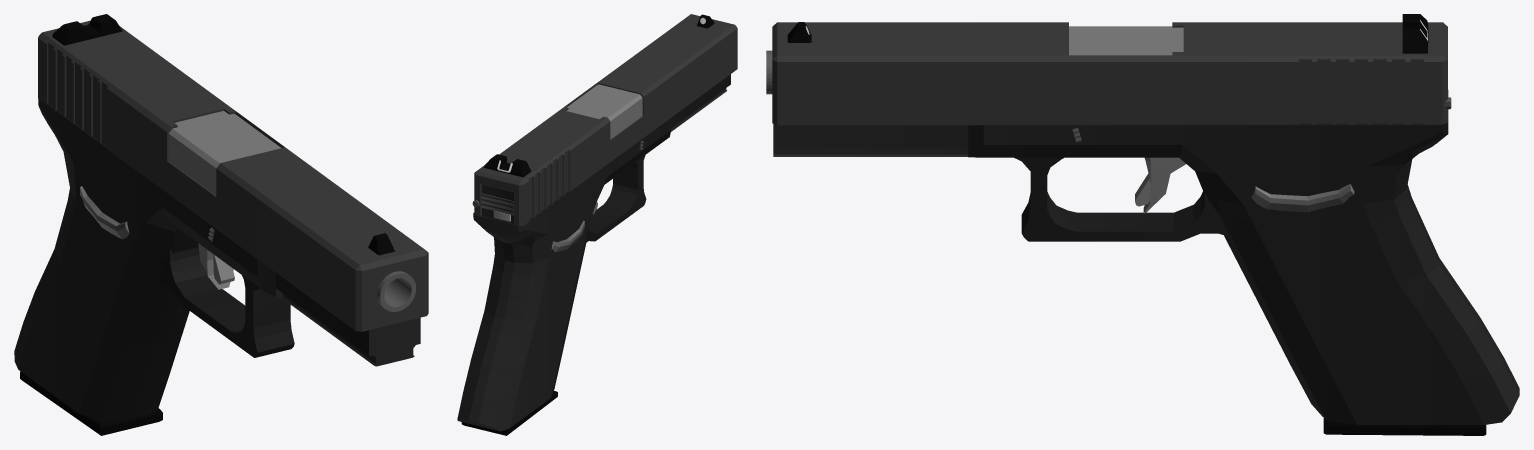
Rendered from Pistol_1.fbx.
3 renders of one model, left to right at view 1: azimuth 30°, elevation 25°; view 2: azimuth 150°, elevation 25°; view 3: azimuth 270°, elevation 25°, orthographic. The views are drawn at different scales.
Visible parts, largest first — view 1: Body, Top, Magazine, Trigger; view 2: Body, Top, Magazine; view 3: Body, Top, Magazine, Trigger.
Part boxes in pixels (bbox=[...]): Body: bbox=[14, 99, 420, 422]; Top: bbox=[38, 14, 428, 331]; Magazine: bbox=[20, 371, 162, 435]; Trigger: bbox=[198, 243, 234, 289]; Body: bbox=[457, 74, 730, 431]; Top: bbox=[472, 14, 737, 226]; Magazine: bbox=[461, 391, 557, 435]; Body: bbox=[766, 26, 1519, 424]; Top: bbox=[772, 14, 1451, 125]; Magazine: bbox=[1323, 418, 1486, 435]; Trigger: bbox=[1135, 157, 1185, 213].
Bounding box in the file's own units: 3.01 × 12.98 × 22.46.
